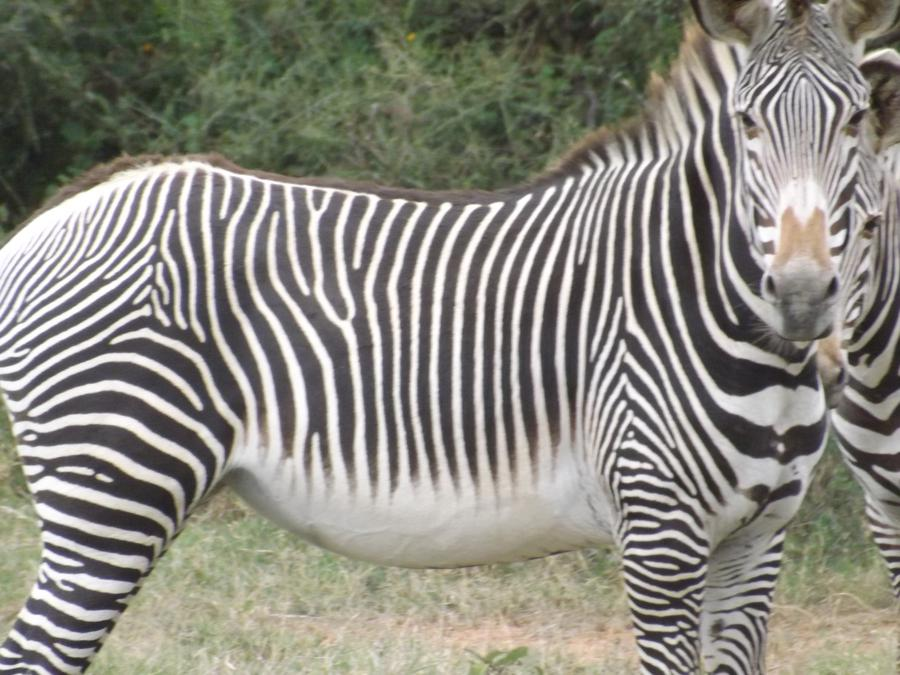zebra_grevys: (2, 126, 746, 530)
